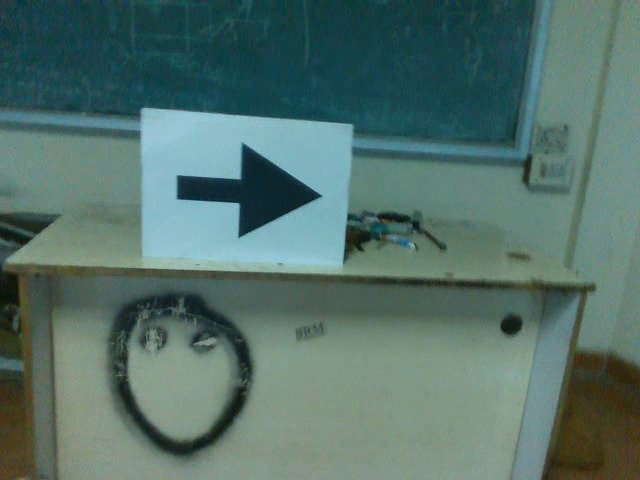Right: (164, 133, 332, 243)
